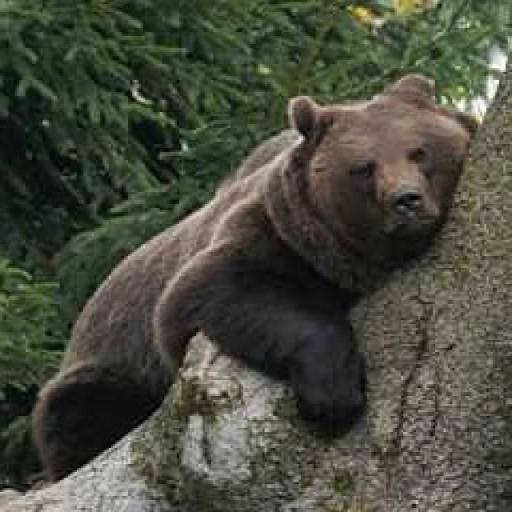Bear: (28, 70, 480, 482)
